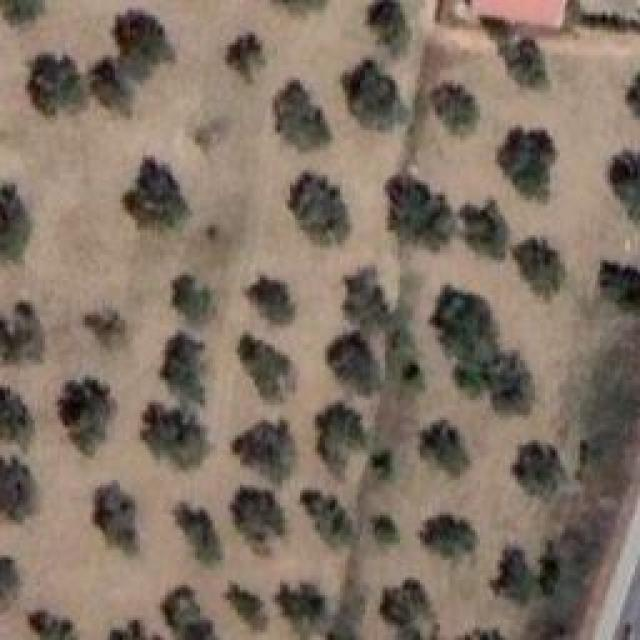Tree: (448, 345, 533, 413), (425, 283, 503, 347), (390, 175, 456, 248), (343, 60, 409, 131), (484, 18, 548, 90), (148, 398, 212, 470), (230, 480, 289, 556), (125, 157, 189, 227), (113, 10, 176, 81), (288, 173, 349, 246), (273, 80, 332, 152), (382, 567, 439, 640), (498, 128, 553, 200), (60, 378, 111, 455), (230, 420, 293, 482), (238, 335, 297, 401), (490, 543, 543, 613), (417, 410, 470, 476), (28, 53, 84, 115), (510, 438, 563, 502), (513, 238, 566, 301), (328, 333, 381, 395), (162, 578, 215, 639), (160, 333, 204, 405), (303, 483, 350, 548), (93, 484, 136, 554), (460, 200, 510, 259), (225, 578, 277, 633), (2, 453, 39, 529), (343, 268, 389, 329), (280, 578, 330, 634), (415, 513, 480, 556), (178, 503, 226, 560), (0, 302, 44, 362), (318, 407, 361, 467), (432, 83, 480, 136), (90, 57, 131, 116), (0, 185, 31, 261), (0, 385, 34, 450), (248, 275, 294, 323), (368, 0, 409, 53), (610, 150, 640, 220), (390, 343, 425, 401), (32, 607, 92, 640), (228, 32, 267, 82), (173, 275, 213, 323), (0, 548, 26, 617), (602, 263, 640, 310), (363, 510, 408, 544), (85, 310, 126, 337), (113, 610, 151, 639), (0, 0, 44, 24), (368, 446, 398, 478)
